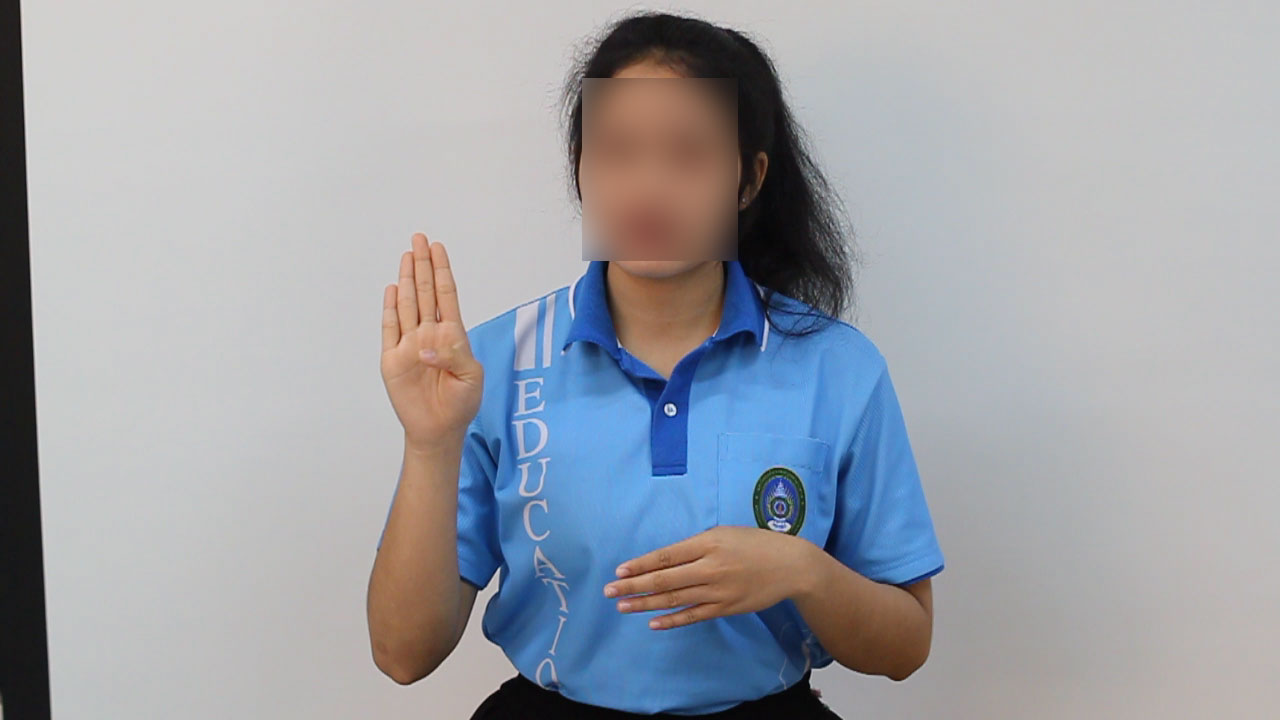bor: (353, 212, 510, 471)
